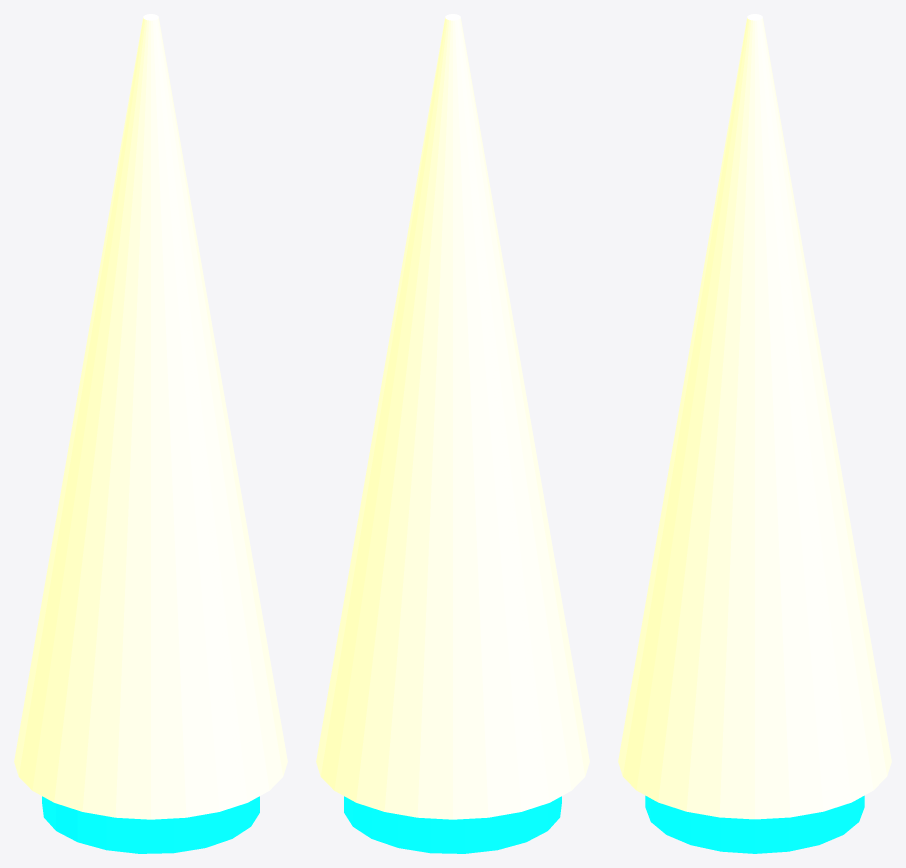
The model's file is flame_1g.glb.
3 renders of one model, left to right at view 1: azimuth 30°, elevation 25°; view 2: azimuth 150°, elevation 25°; view 3: azimuth 270°, elevation 25°, orthographic.
Parts seen in each view (by area): view 1: Flame_1g_Buoyant_Teardrop, Flame_1g_Base_Ring; view 2: Flame_1g_Buoyant_Teardrop, Flame_1g_Base_Ring; view 3: Flame_1g_Buoyant_Teardrop, Flame_1g_Base_Ring.
Part boxes in pixels (x1,y1,x2,y2): Flame_1g_Buoyant_Teardrop: [14, 14, 287, 819]; Flame_1g_Base_Ring: [42, 796, 259, 853]; Flame_1g_Buoyant_Teardrop: [316, 14, 589, 819]; Flame_1g_Base_Ring: [344, 796, 561, 853]; Flame_1g_Buoyant_Teardrop: [618, 14, 891, 819]; Flame_1g_Base_Ring: [645, 795, 864, 853].
Size of the model in its own units: 0.7 by 2.23 by 0.7.
